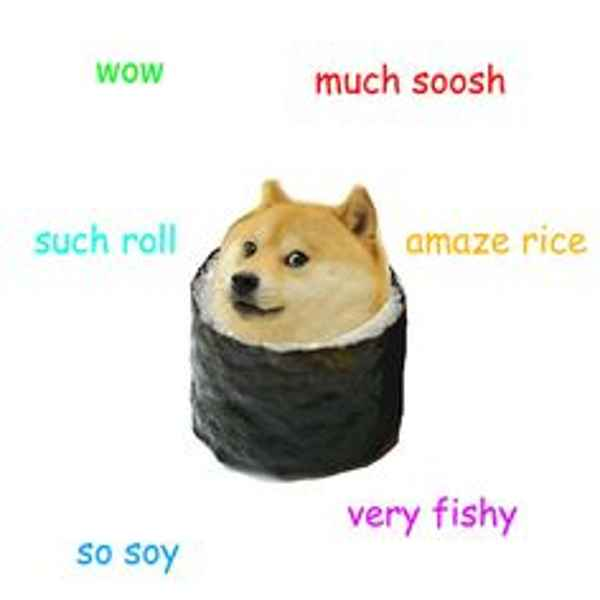doge: (198, 171, 398, 354)
